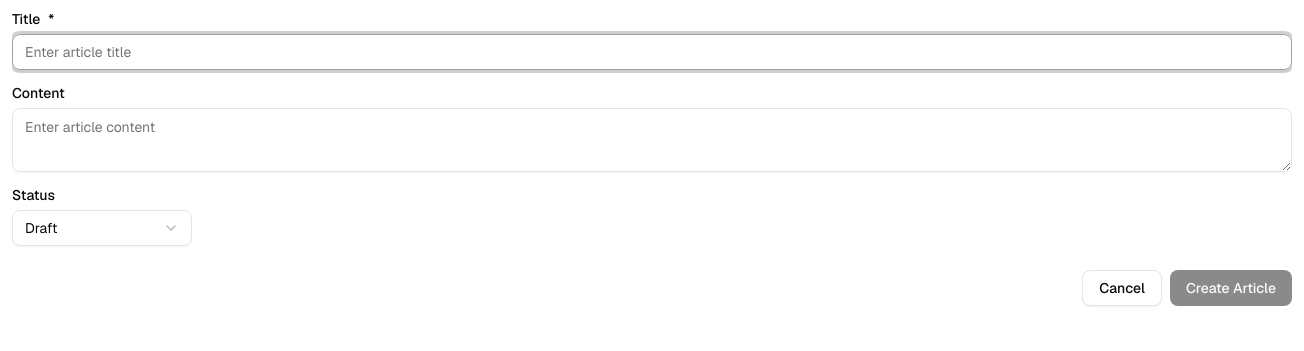
Test case: ArticleForm › shows validation error when title is empty on blur
This screenshot has width=1304, height=351.
Type then clear to mark field as dirty, then blur to trigger validation
In the field labelled "Title *": (652, 52) [12,34,1292,70], type "a"
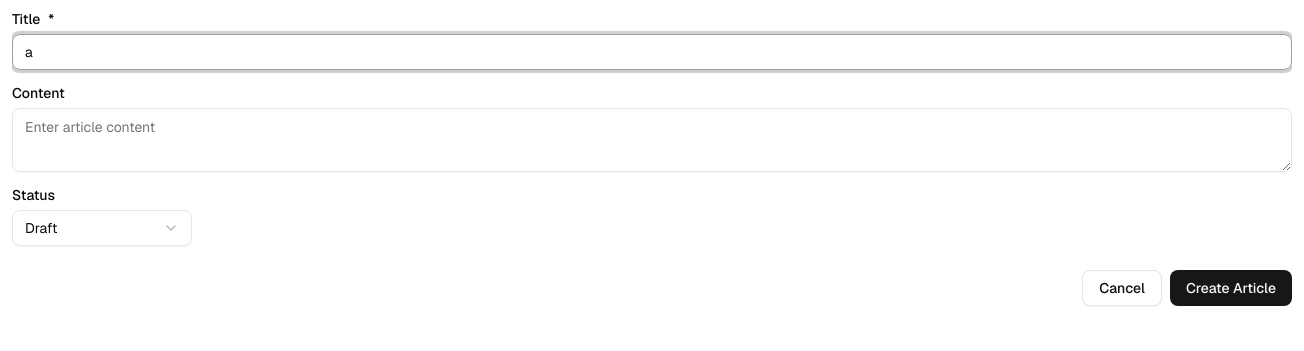
Clear the field labelled "Title *": (652, 52) [12,34,1292,70]
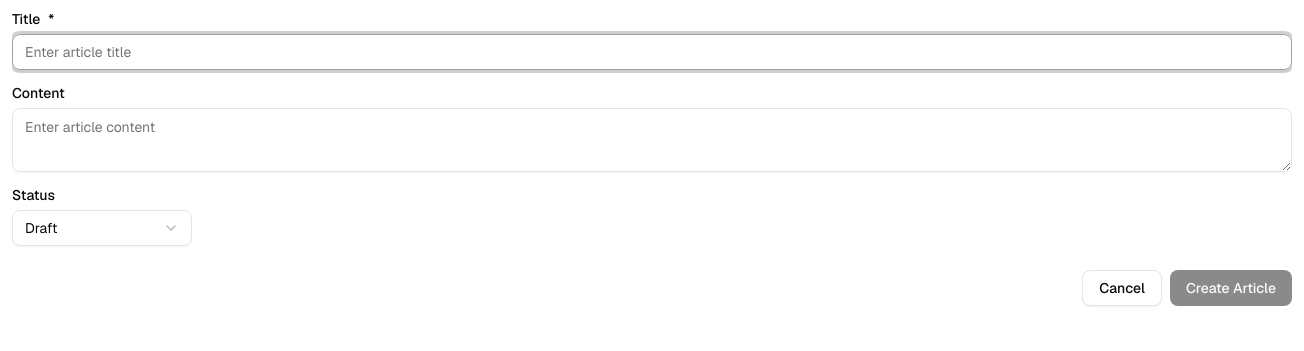
Press Tab
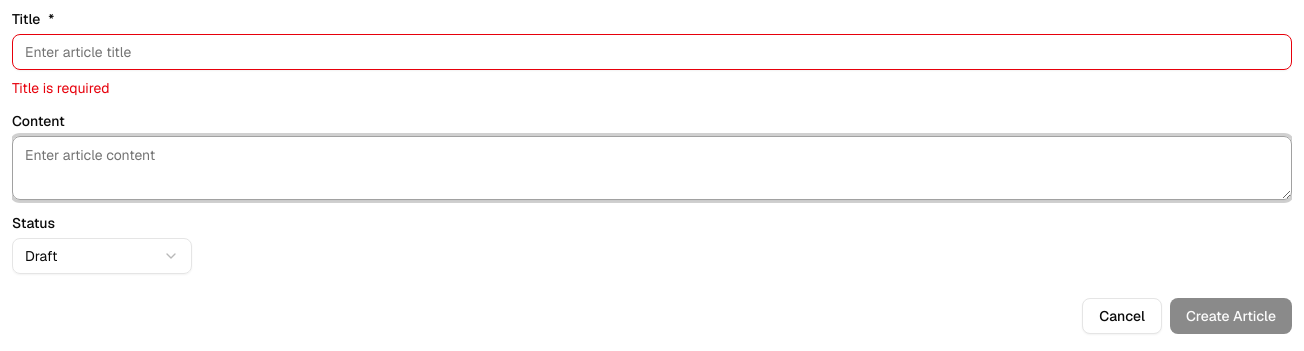
Result: the message reads "Title is required" at [12,79,110,97]
